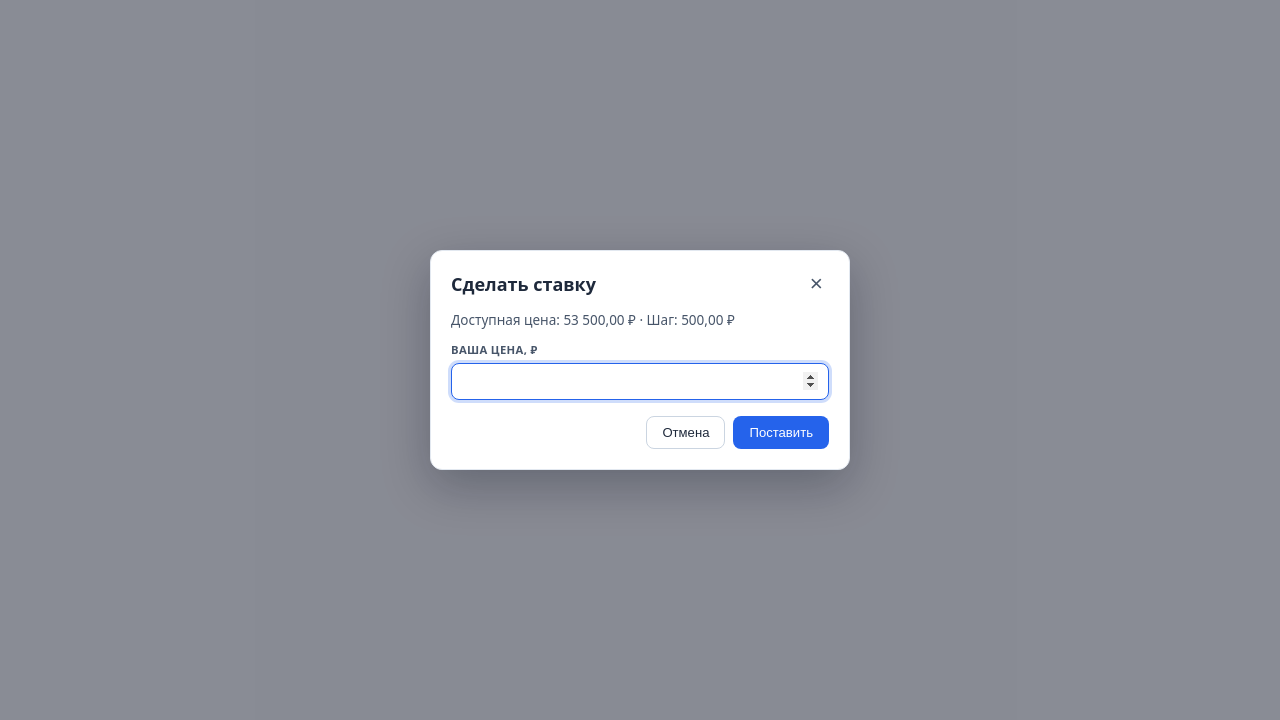
Test: PlaceBetModal — server errors › maps a 422 field error back onto the price field + error toast
Type "54000" into the number field with test id "bet-price". click: point(640, 382)
box: [451,363,829,400]
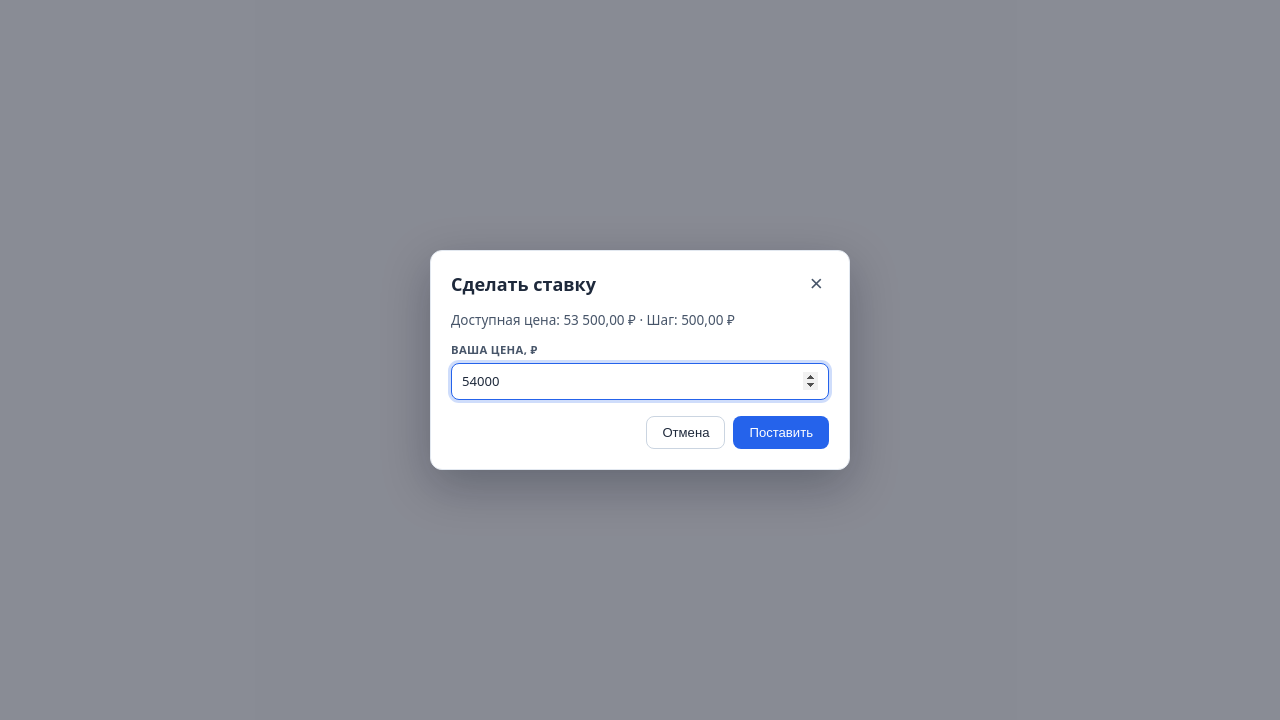
Click the button with test id "bet-submit". click: point(781, 433)
box: [734,416,829,449]
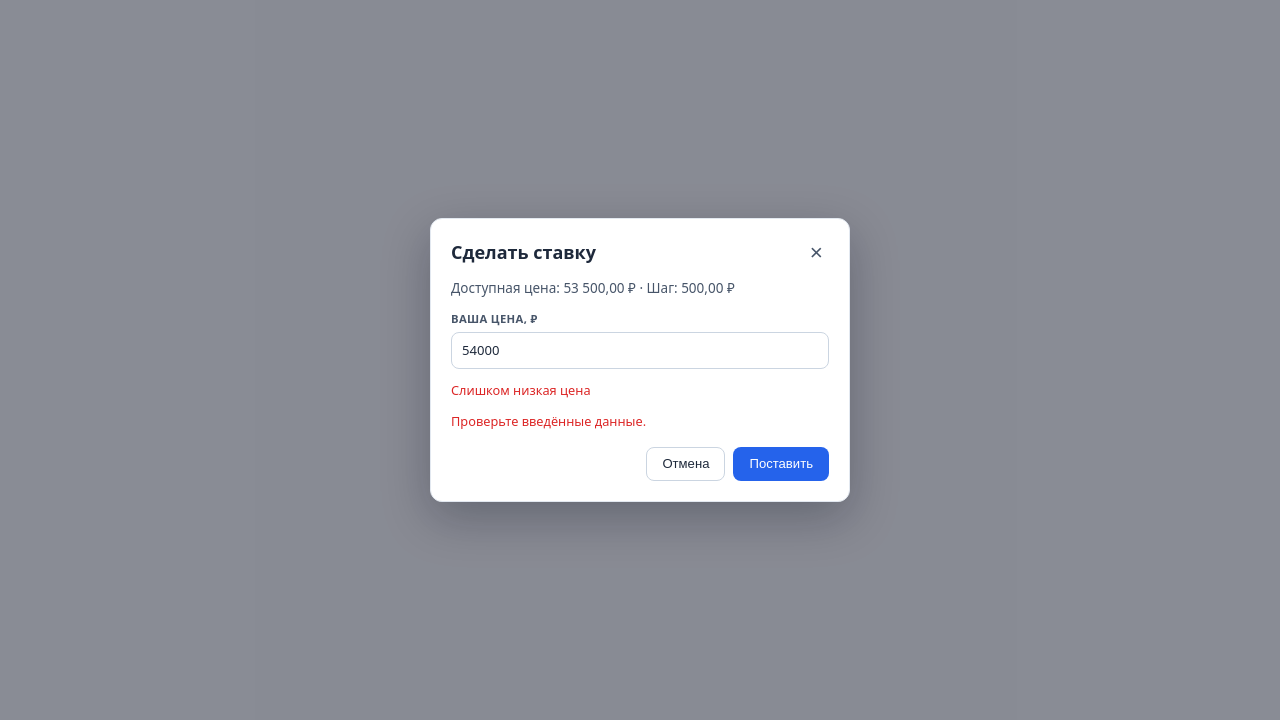
Expected: the message with test id "bet-price-error" reads "Слишком низкая цена", [451,381,590,399]
